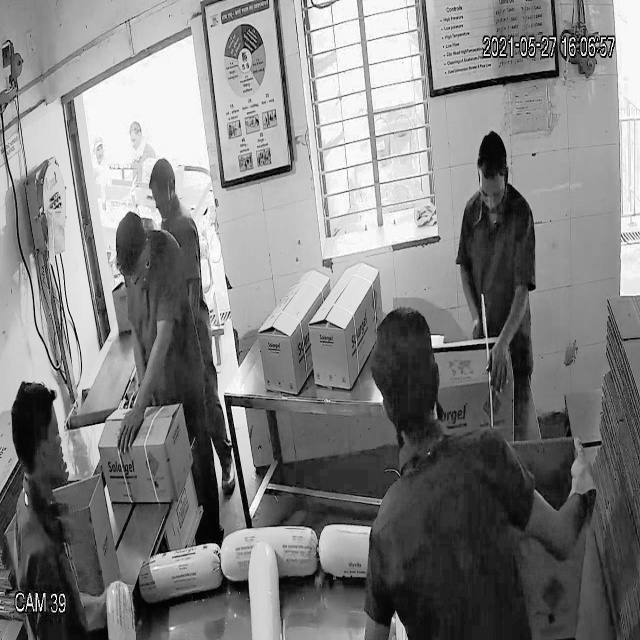Sin_gafas: (478, 176, 508, 210)
